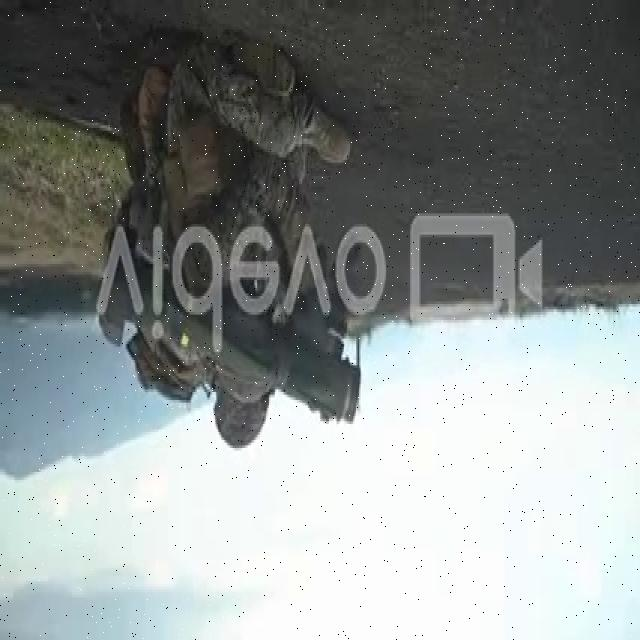bazooka: (88, 210, 368, 438)
